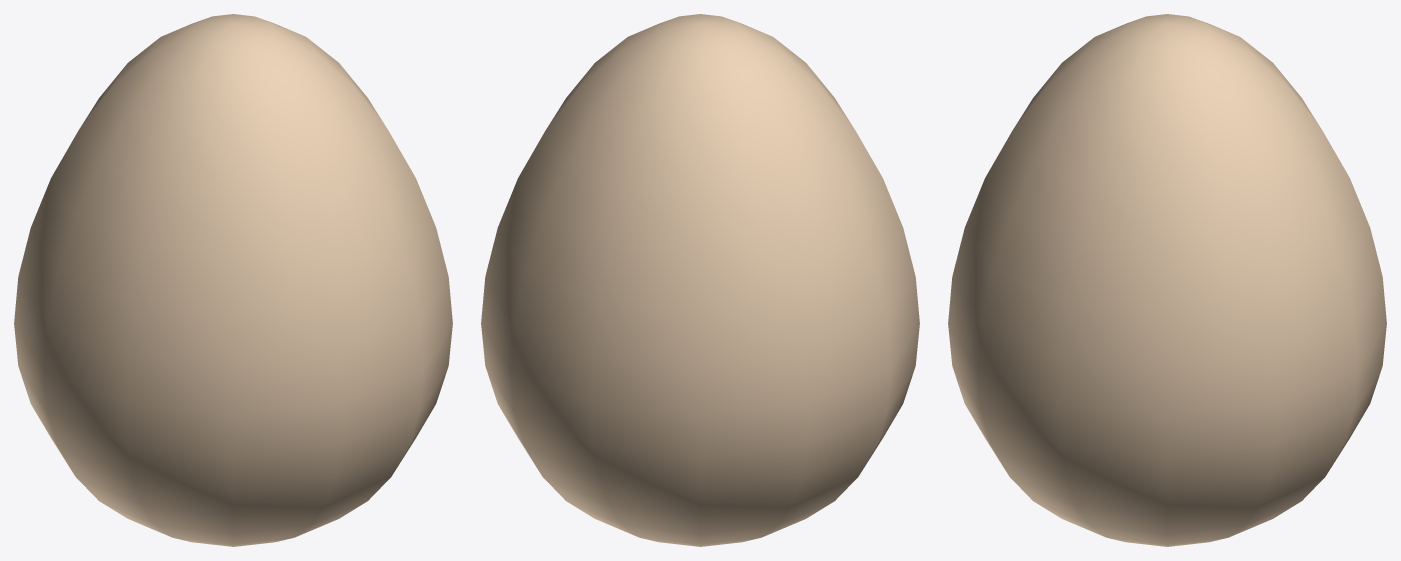
File: egg.fbx
3 renders of one model, left to right at view 1: azimuth 30°, elevation 25°; view 2: azimuth 150°, elevation 25°; view 3: azimuth 270°, elevation 25°, orthographic.
Visible parts, largest first — view 1: Ou; view 2: Ou; view 3: Ou.
Part boxes in pixels (box(x1,y1,x2,y2)): Ou: box(14, 14, 452, 546); Ou: box(481, 14, 919, 546); Ou: box(948, 14, 1386, 546).
Bounding box in the file's own units: 200 × 253 × 200.
